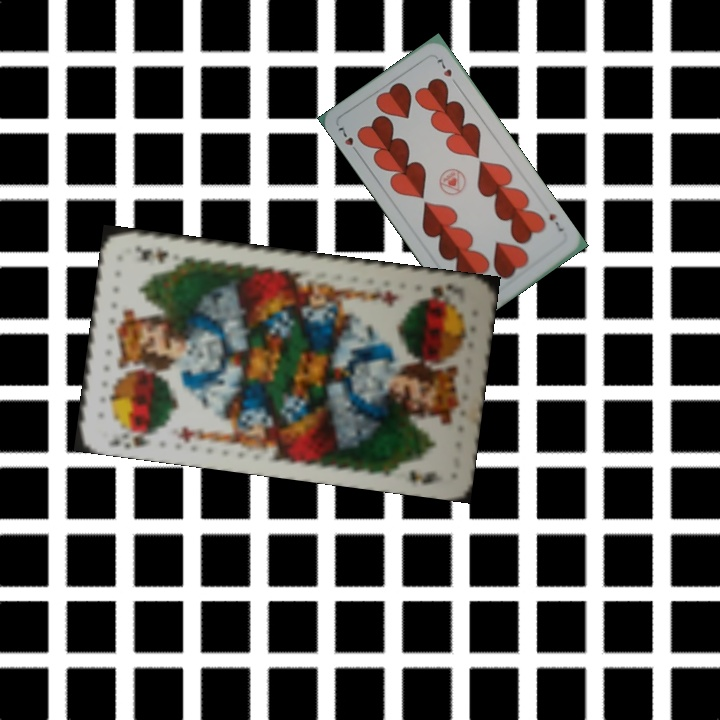H7: (334, 121, 362, 157), (545, 209, 566, 234)
SK: (415, 279, 454, 304), (121, 426, 160, 451)
